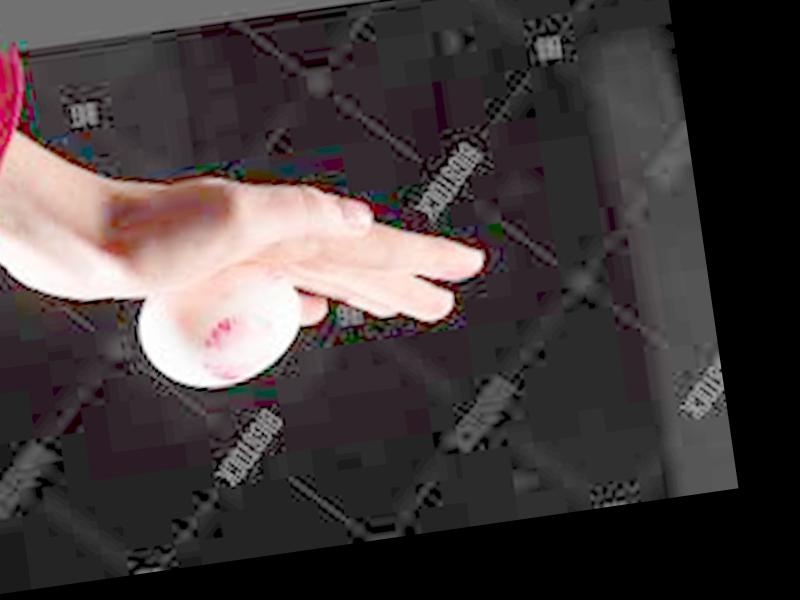Eggs: (131, 267, 305, 397)
